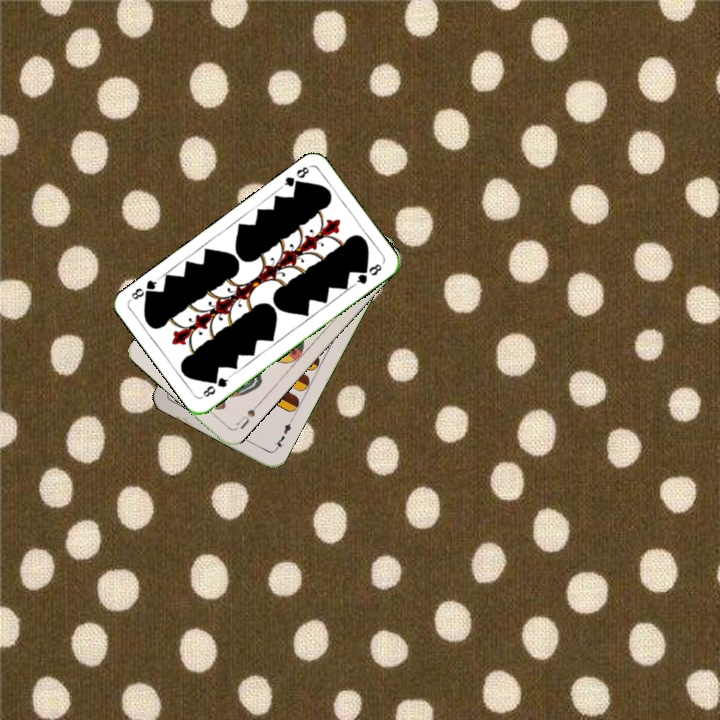E7: (270, 416, 295, 454)
G8: (277, 162, 312, 192), (199, 372, 233, 400)
SU: (232, 399, 262, 432)
